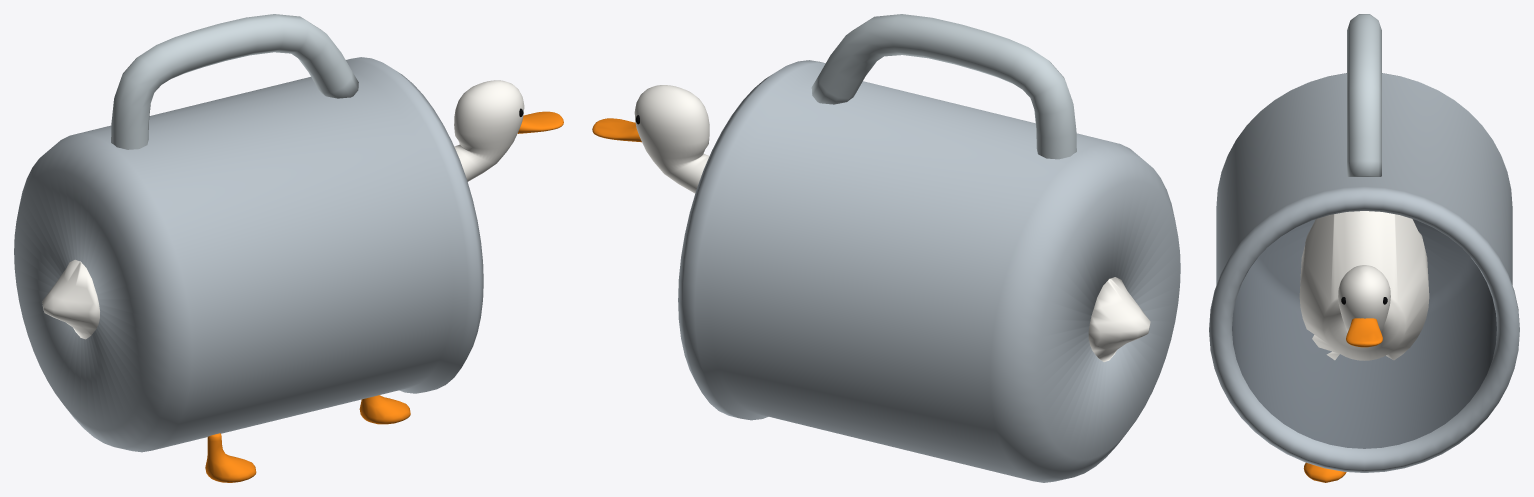
Rendered from duck-steelcup.fbx.
3 renders of one model, left to right at view 1: azimuth 30°, elevation 25°; view 2: azimuth 150°, elevation 25°; view 3: azimuth 270°, elevation 25°, orthographic. The views are drawn at different scales.
Visible parts, largest first — view 1: duck-steelcup; view 2: duck-steelcup; view 3: duck-steelcup.
Part boxes in pixels (left/top/right/bottom): duck-steelcup: left=14, top=14, right=563, bottom=482; duck-steelcup: left=592, top=14, right=1180, bottom=482; duck-steelcup: left=1209, top=14, right=1519, bottom=482.
Bounding box in the file's own units: 100 × 76.07 × 57.26.
1 material, 1 textured.
